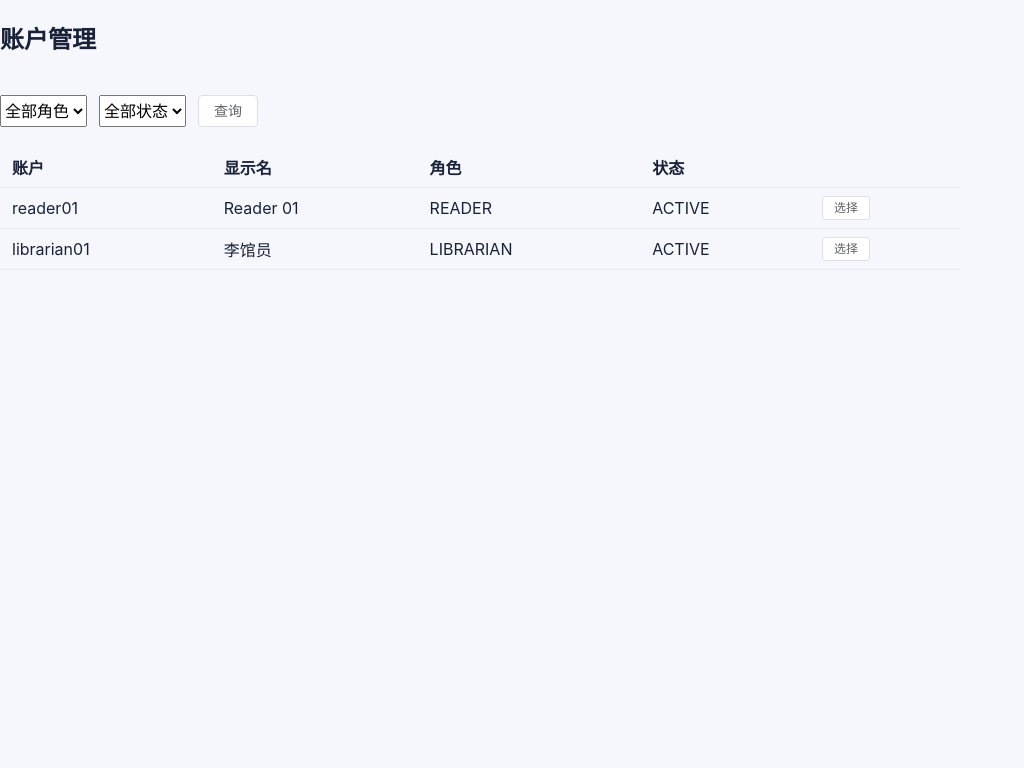
Scenario: AccountAdminView › shows the temporary password once after a password reset
Click the button with test id "account-select-1001" at [846, 208], box [822,196,870,220]
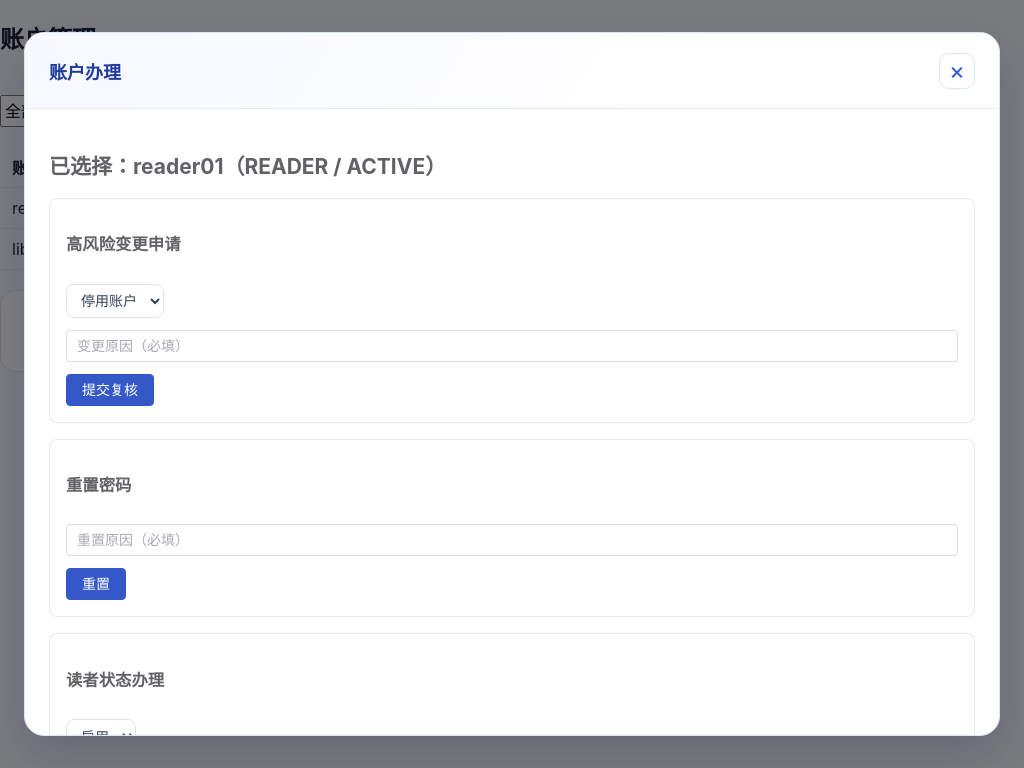
Type "遗忘密码" into the field with test id "reset-reason" at [512, 540], box [77,525,947,555]
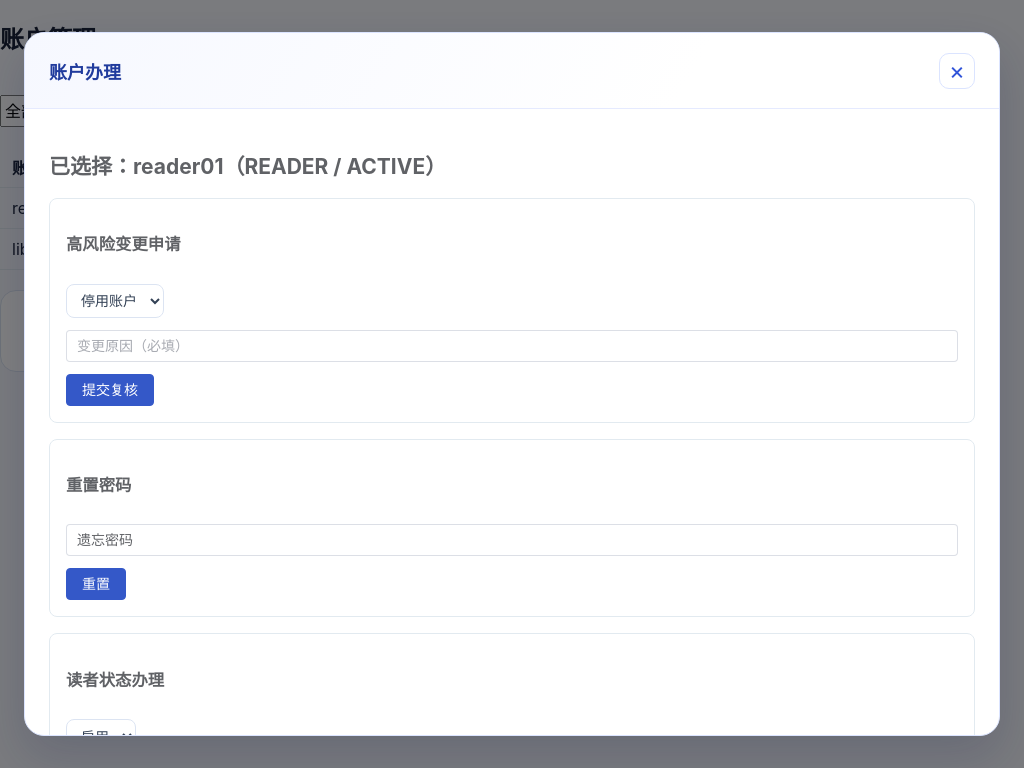
Submit the form with test id "reset-form", box [66,524,958,600]
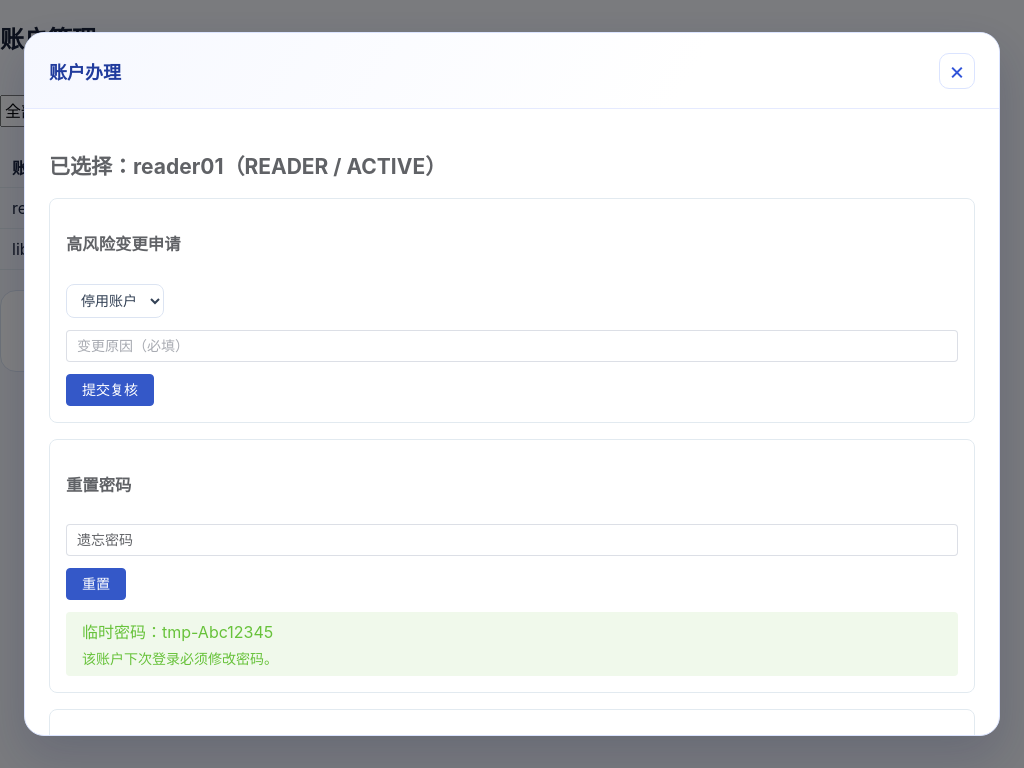
Result: the element with test id "reset-result" is shown at [66,612,958,676]
Result: the element with test id "reset-result" shows "tmp-Abc12345" at [82,622,273,642]
Result: the element with test id "reset-result" shows "必须修改密码" at [82,650,278,667]
